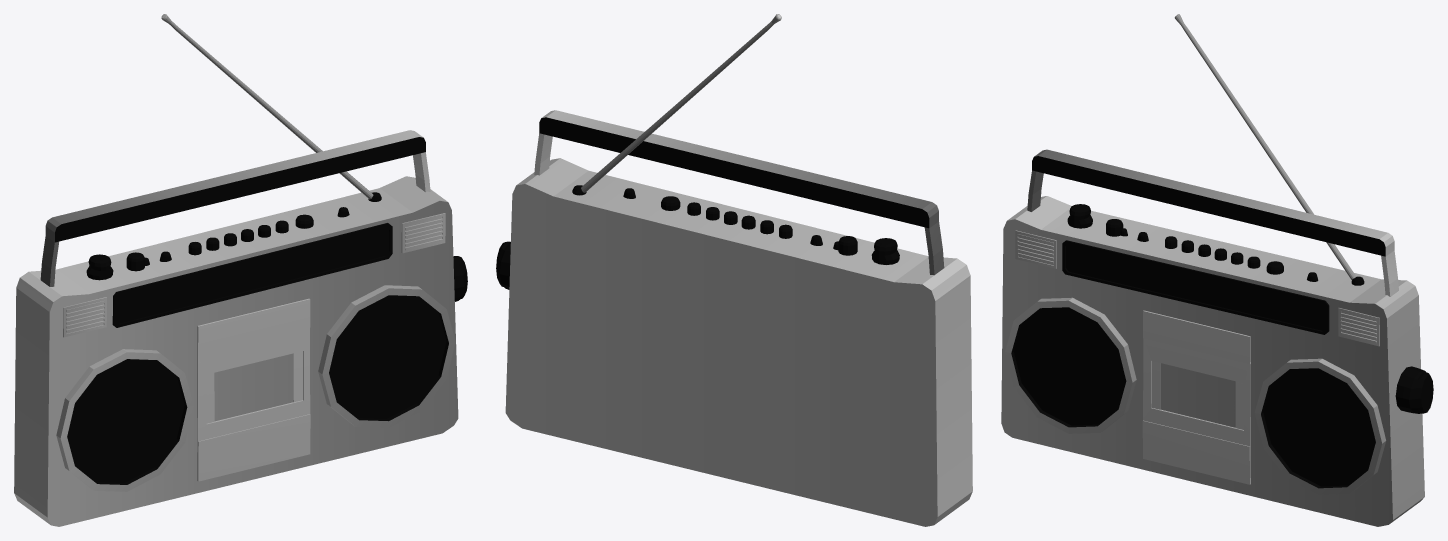
File: SM_Int_Radio.fbx
3 renders of one model, left to right at view 1: azimuth 30°, elevation 25°; view 2: azimuth 150°, elevation 25°; view 3: azimuth 330°, elevation 25°, orthographic. The views are drawn at different scales.
Visible parts, largest first — view 1: SM_Int_Radio; view 2: SM_Int_Radio; view 3: SM_Int_Radio.
Boxes of the visible parts, x1,y1,x2,y2 form: SM_Int_Radio: (14, 14, 467, 526); SM_Int_Radio: (496, 14, 972, 526); SM_Int_Radio: (1001, 14, 1433, 526).
Bounding box in the file's own units: 174 × 175 × 28.19.
